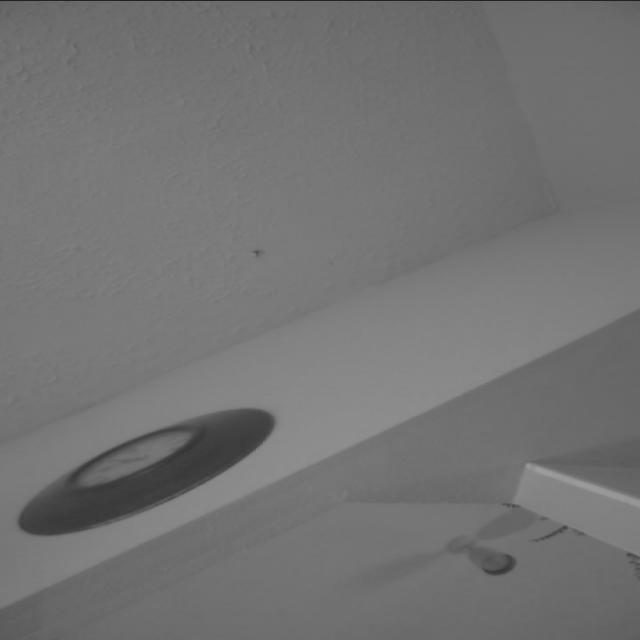pin holes: (245, 239, 272, 267)
